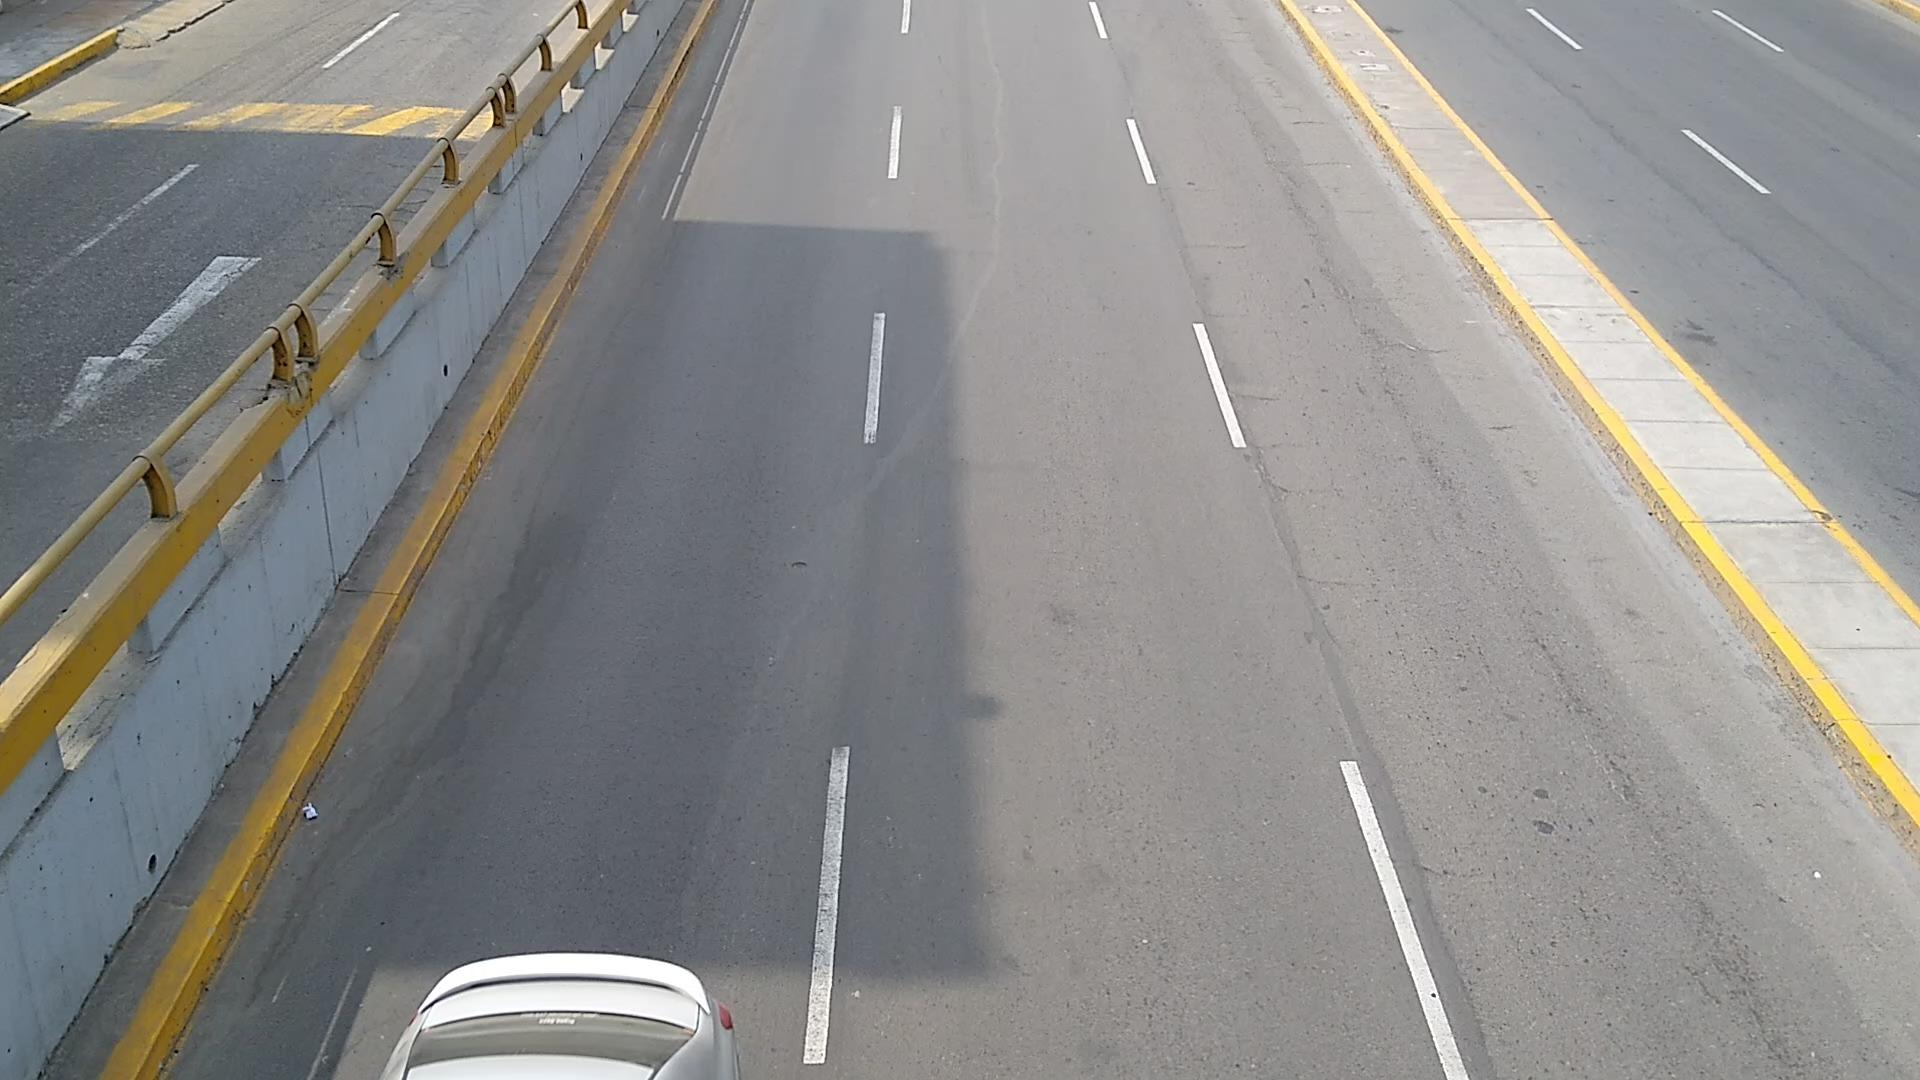car: (382, 952, 739, 1080)
